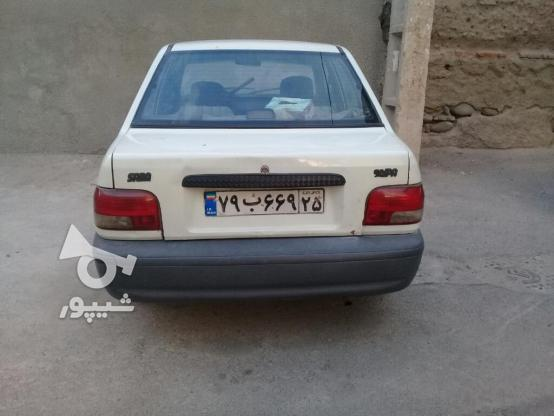car: (203, 192, 324, 215)
